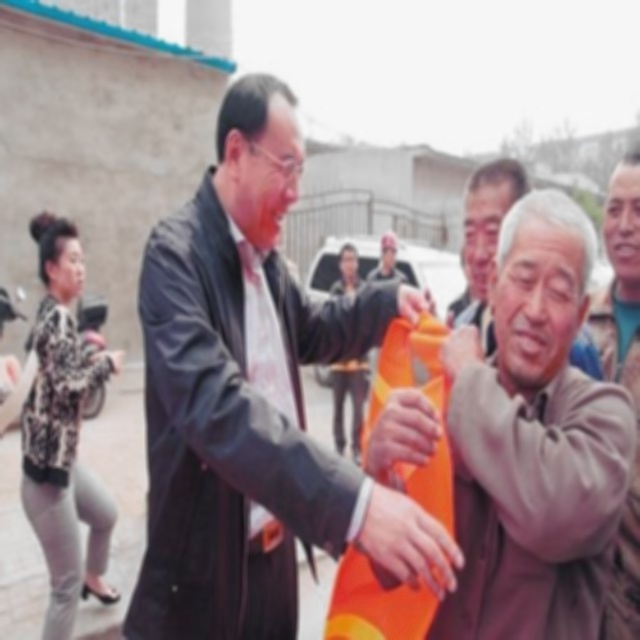Sin_Casco_Mascarrilla: (492, 188, 597, 376), (210, 62, 312, 245)
